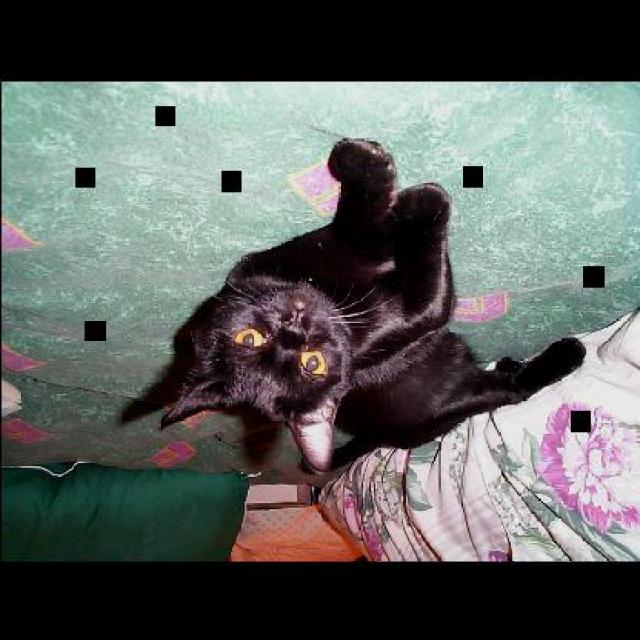unauthorized: (123, 135, 586, 474)
